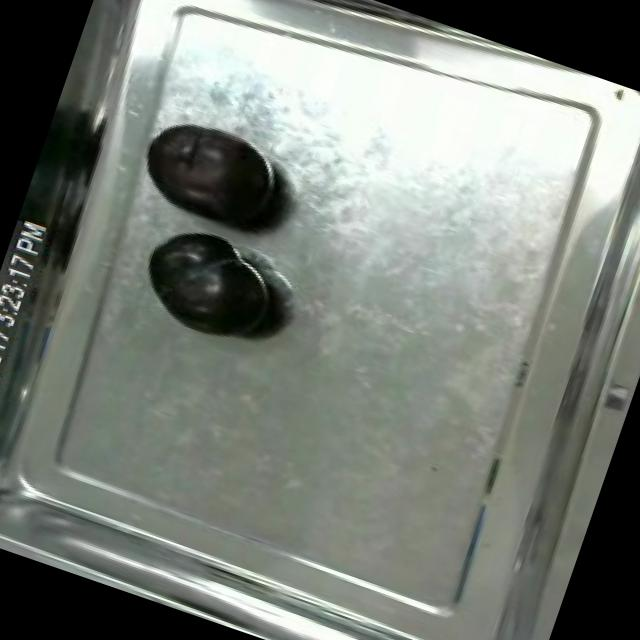Fruit: (126, 208, 296, 358), (125, 104, 299, 248)
